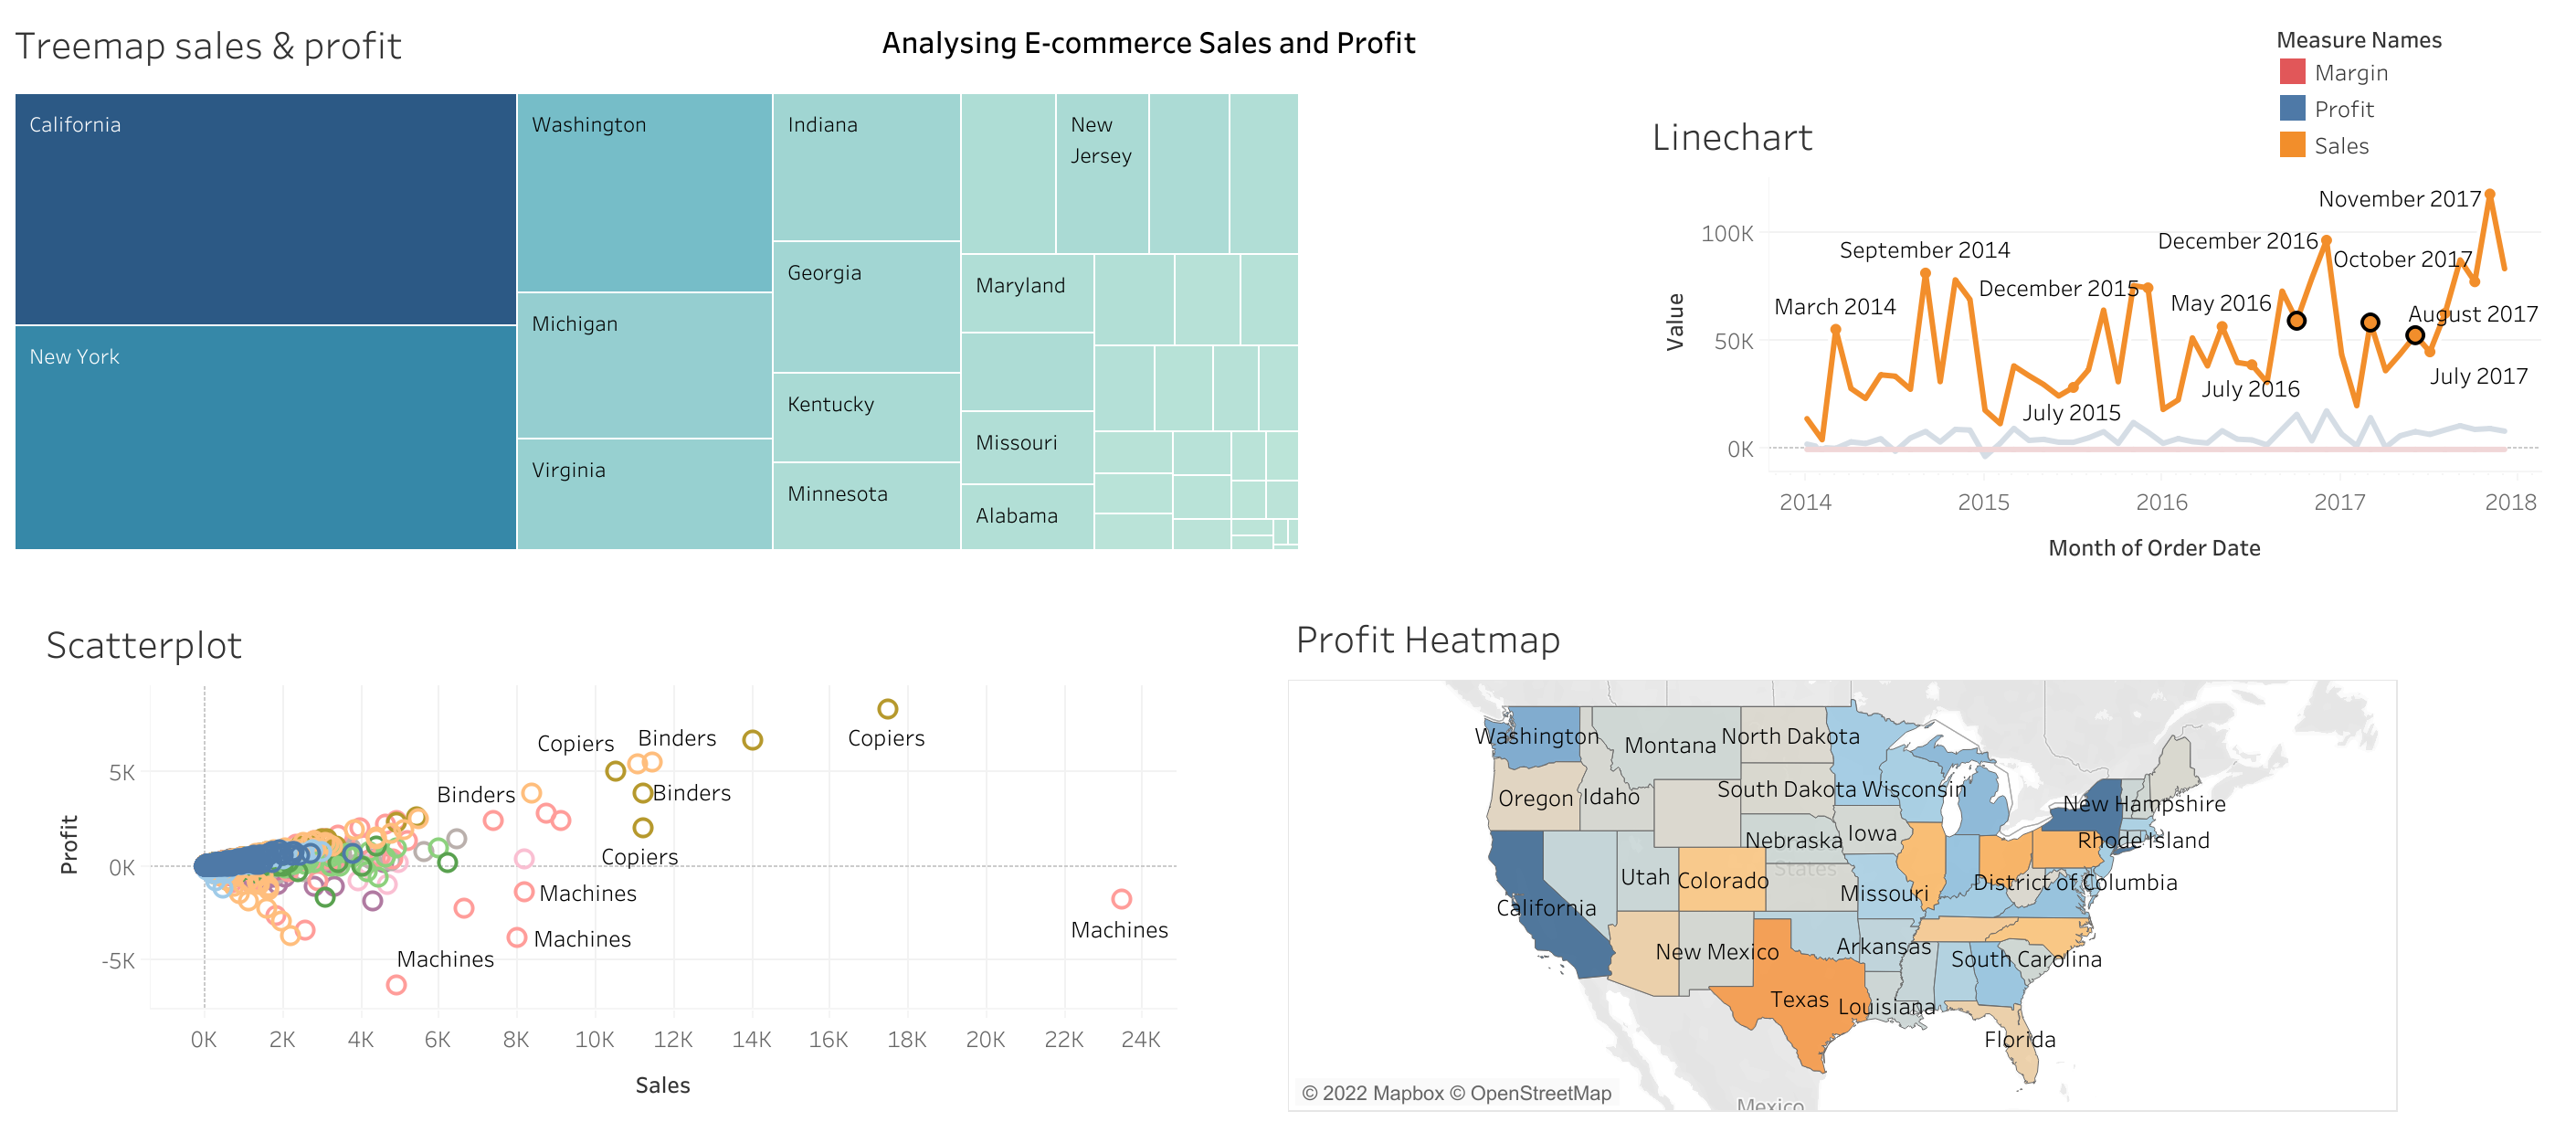

The dashboard page shown, as its layout file describes it:
{"tool":"tableau","page":{"name":"Dashboard 1","canvas":[1000,1000],"units":"permille","ordinal":0},"visuals":[{"type":"worksheet","title":"Treemap sales & profit","mark":"Automatic","box":[0,0,1000,1000]},{"type":"text","box":[340.2,16.3,243.1,40.6]},{"type":"legend","title":"Linechart","param":"[federated.145ccsa0zuqoh31cnd0s01u7o9jz].[:Measure Names]","box":[882.3,16.3,85.9,127.8]},{"type":"worksheet","title":"Linechart","mark":"Automatic","cols":["Order Date"],"box":[638.1,87.8,348.1,424]},{"type":"worksheet","title":"Profit Heatmap","mark":"Multipolygon","box":[499.4,535.4,431.4,454.1]},{"type":"worksheet","title":"Scatterplot","mark":"Automatic","rows":["Profit"],"cols":["Sales"],"box":[15.2,540.1,441.1,449.5]}]}

Visuals, with their boxes on the dashboard's canvas, which has no fixed pixel size, in thousandths of its width and height (x1, y1, x2, y2). These are canvas units, not pixel positions in the 2576x1122 screenshot, which may show the page scaled, cropped or inside an application window:
"Treemap sales & profit" worksheet: x1=0 y1=0 x2=1000 y2=1000
text: x1=340 y1=16 x2=583 y2=57
"Linechart" legend: x1=882 y1=16 x2=968 y2=144
"Linechart" worksheet: x1=638 y1=88 x2=986 y2=512
"Profit Heatmap" worksheet (Multipolygon marks): x1=499 y1=535 x2=931 y2=990
"Scatterplot" worksheet: x1=15 y1=540 x2=456 y2=990
